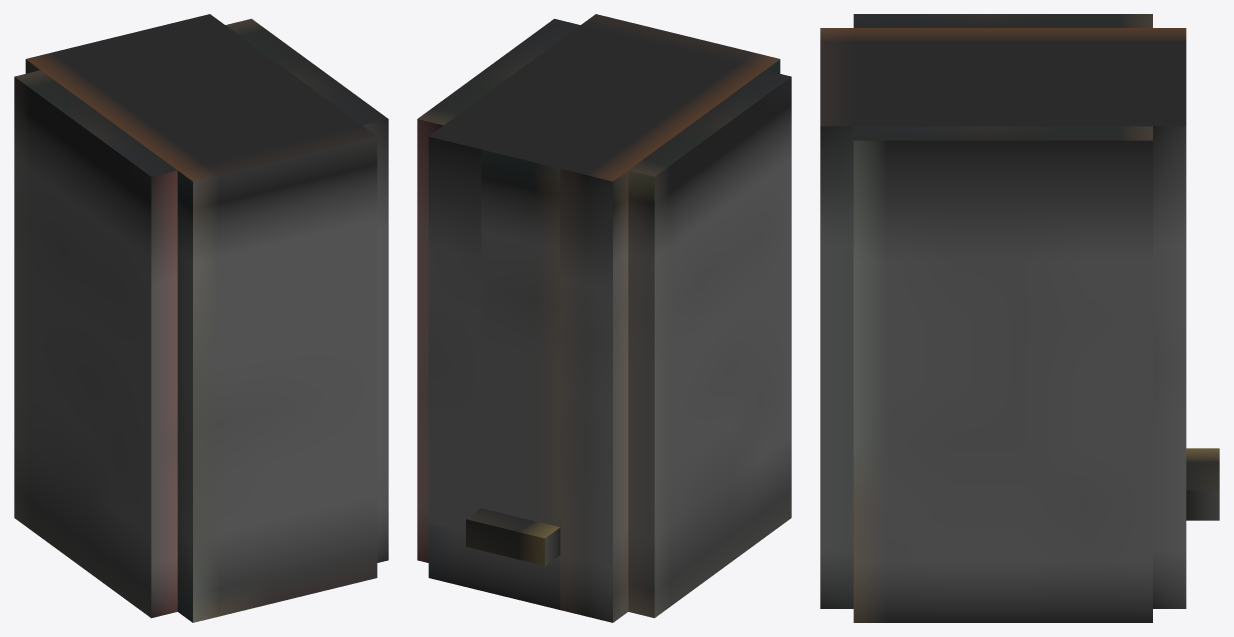
Rendered from BinSteelLarge_00.fbx.
3 renders of one model, left to right at view 1: azimuth 30°, elevation 25°; view 2: azimuth 150°, elevation 25°; view 3: azimuth 270°, elevation 25°, orthographic. The views are drawn at different scales.
Visible parts, largest first — view 1: BinSteelLarge_00; view 2: BinSteelLarge_00; view 3: BinSteelLarge_00.
Part boxes in pixels (x1,y1,x2,y2): BinSteelLarge_00: [14, 14, 388, 622]; BinSteelLarge_00: [417, 14, 791, 622]; BinSteelLarge_00: [820, 14, 1219, 622].
Size of the model in its own units: 45 by 60 by 80.
Materials: 1 (1 with a texture image).
